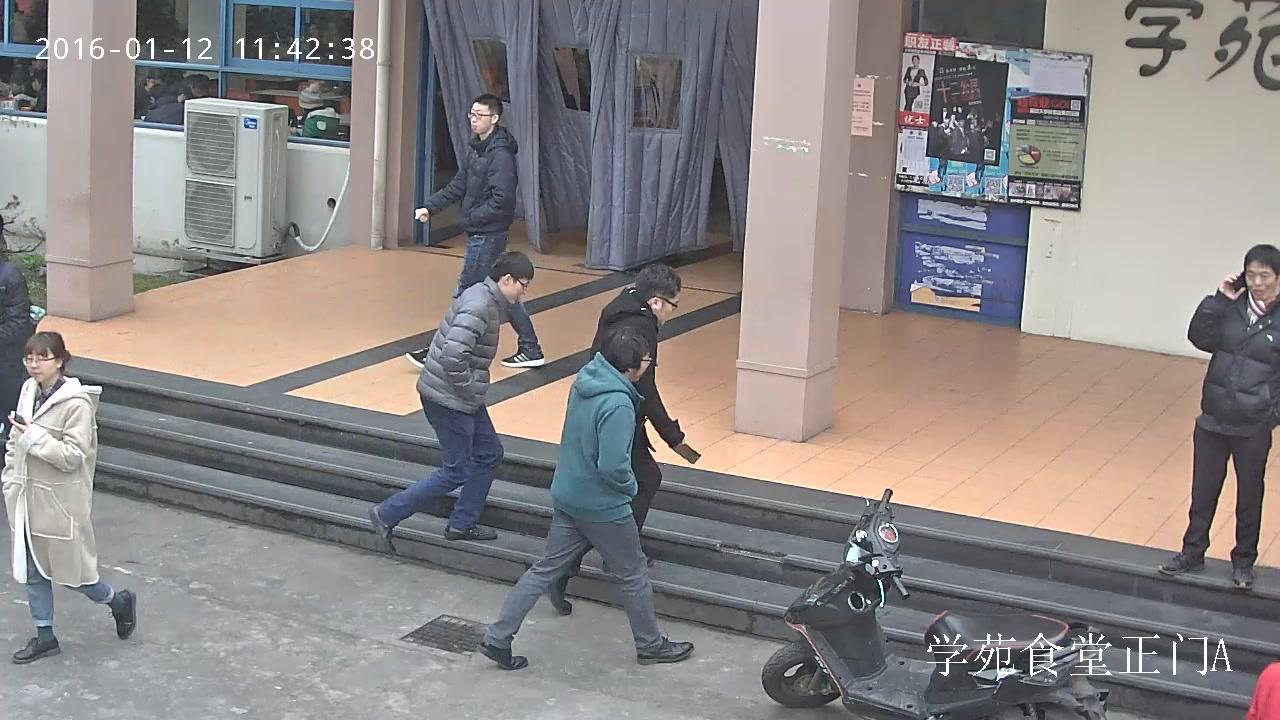person: (478, 326, 693, 668), (525, 263, 701, 614), (370, 250, 531, 557), (0, 332, 135, 661), (1157, 243, 1278, 586), (403, 94, 545, 368), (0, 214, 33, 463), (289, 82, 340, 143), (140, 82, 183, 124), (133, 69, 164, 119), (903, 54, 927, 112), (29, 71, 45, 111)
